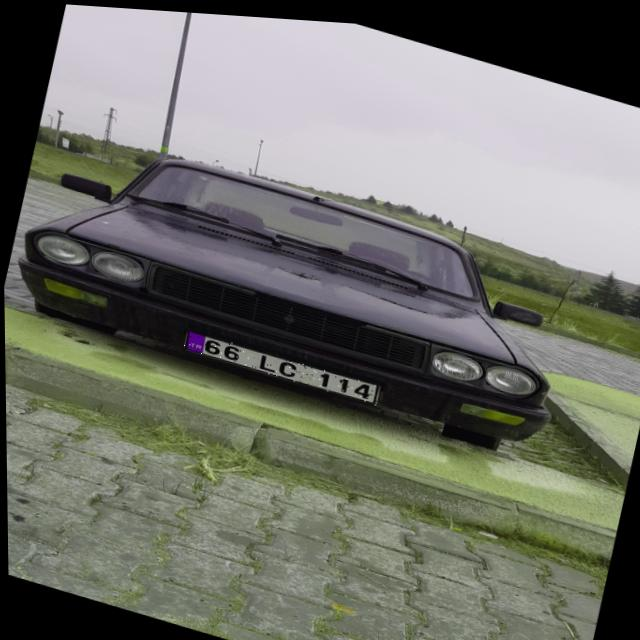license_plate: (181, 326, 379, 401)
